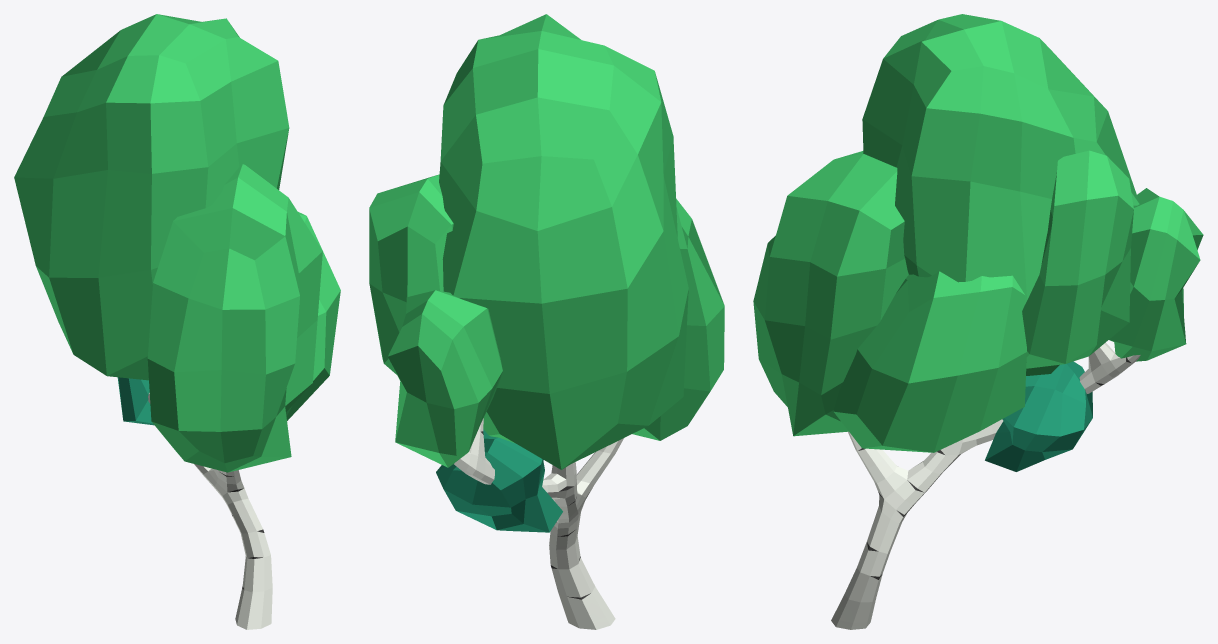
File: birch_vibrant_1.glb
3 views of the same model, side by side, from view 1: azimuth 30°, elevation 25°; view 2: azimuth 150°, elevation 25°; view 3: azimuth 270°, elevation 25° (orthographic). The views are drawn at different scales.
Visible parts, largest first — view 1: BirchTree_1; view 2: BirchTree_1; view 3: BirchTree_1.
Boxes of the visible parts, x1,y1,x2,y2 form: BirchTree_1: (14, 14, 340, 629); BirchTree_1: (369, 14, 724, 629); BirchTree_1: (753, 14, 1203, 629).
Size of the model in its own units: 1.83 by 3.84 by 2.67.
